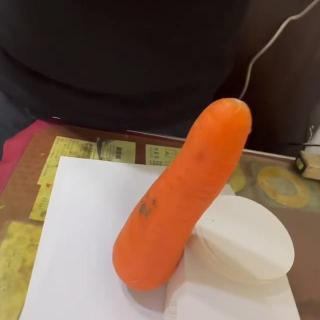carrot: (111, 96, 253, 292)
